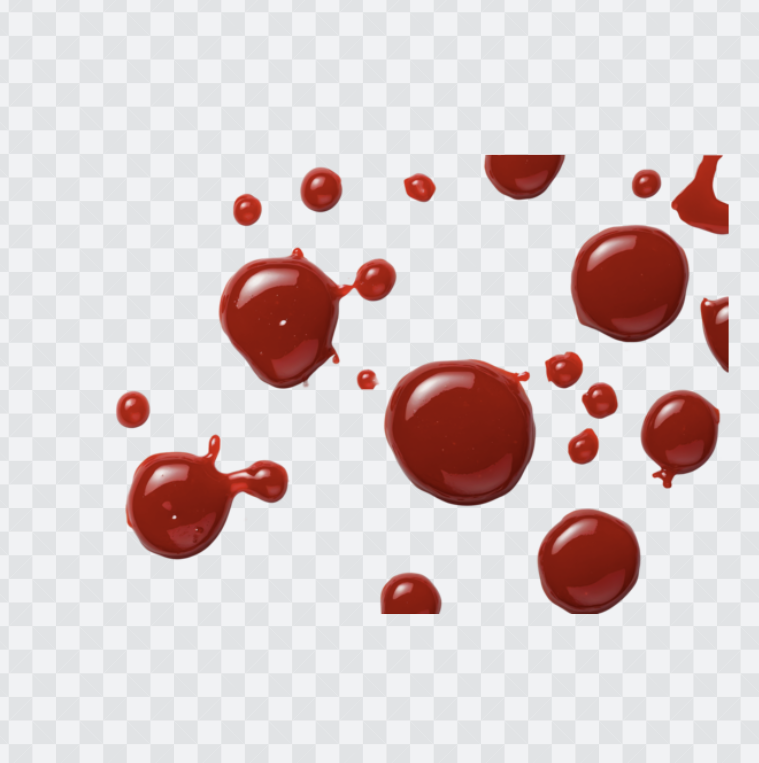blood_6.png: (109, 152, 729, 612)
